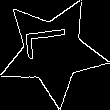L_E: (27, 33, 79, 70)
